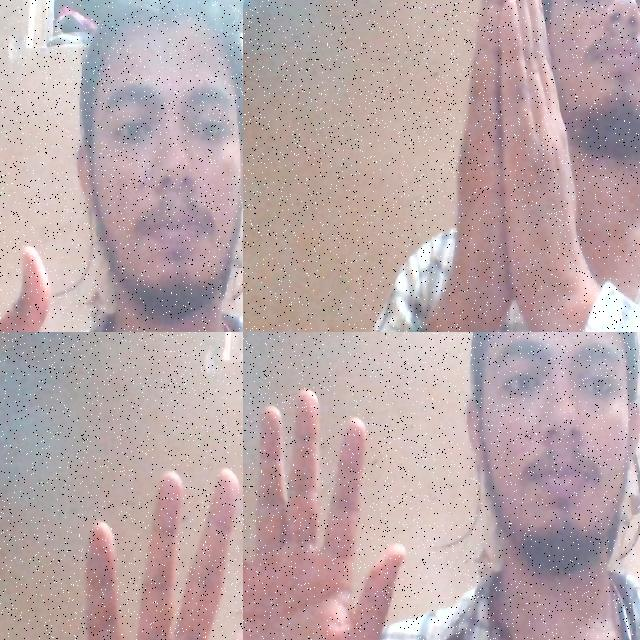Hello: (243, 373, 418, 640)
Please: (62, 454, 243, 640)
Thank You: (422, 0, 622, 332)
